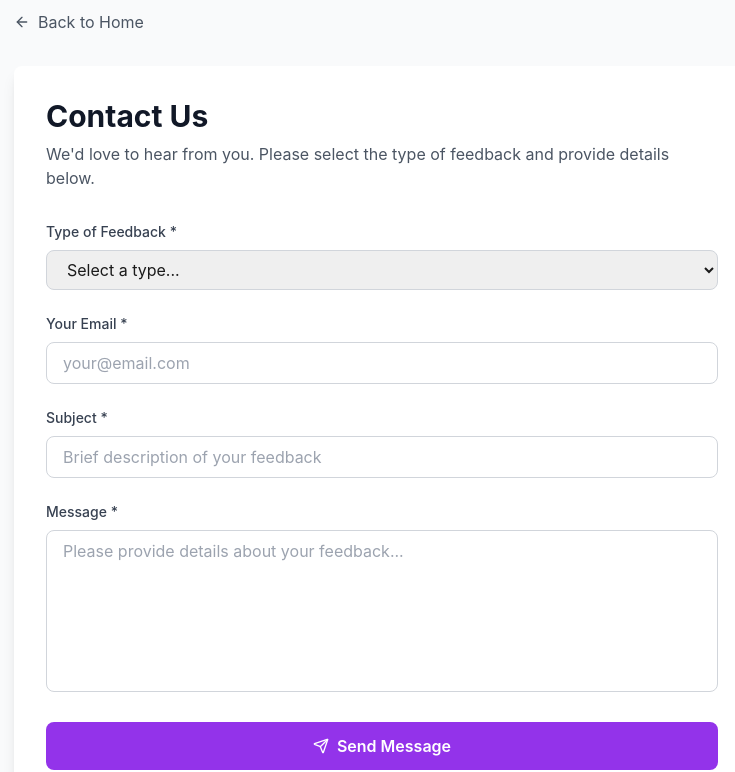
Scenario: Contact › shows Thank You! page after form submission
This screenshot has width=735, height=772.
// Fill in required fields
Select "Web Issue" in the dropdown labelled "Type of Feedback *" at point(382, 270), box top-left (46, 250), bottom-right (718, 290)
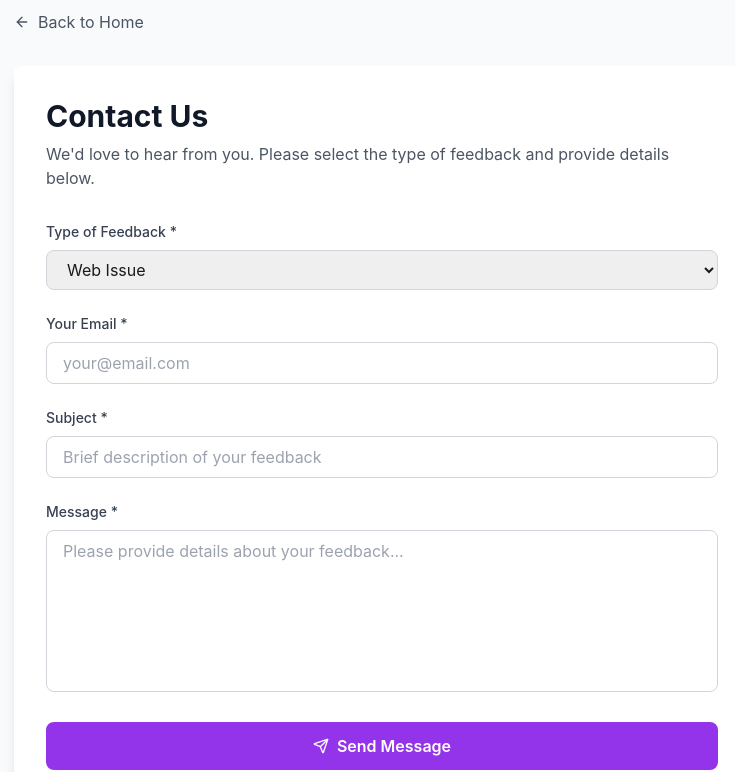
Type "test@example.com" into the field labelled "Your Email *".
click(382, 363); type("test@example.com")  # box top-left (46, 342), bottom-right (718, 384)
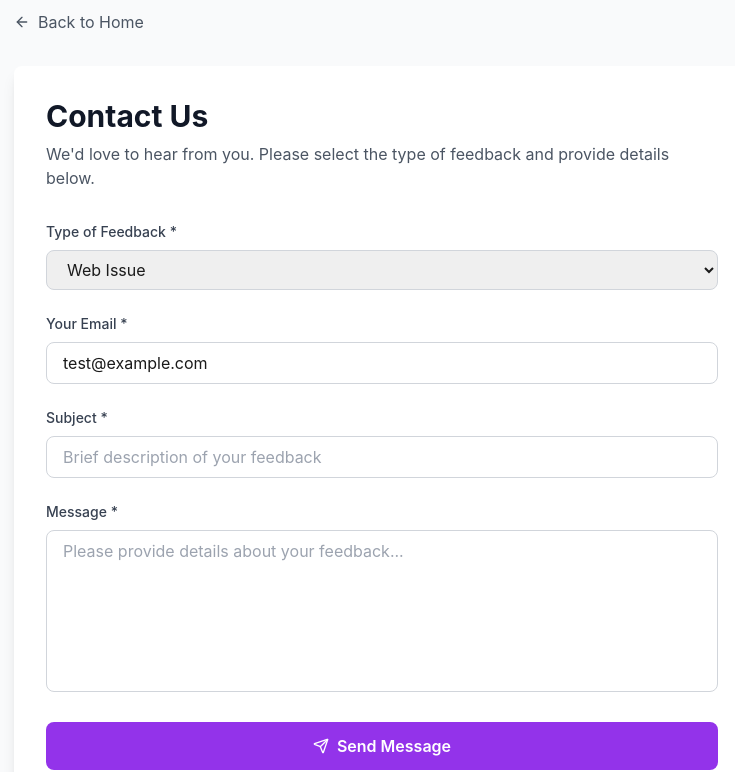
Type "Test" into the field labelled "Subject *".
click(382, 457); type("Test")  # box top-left (46, 436), bottom-right (718, 478)
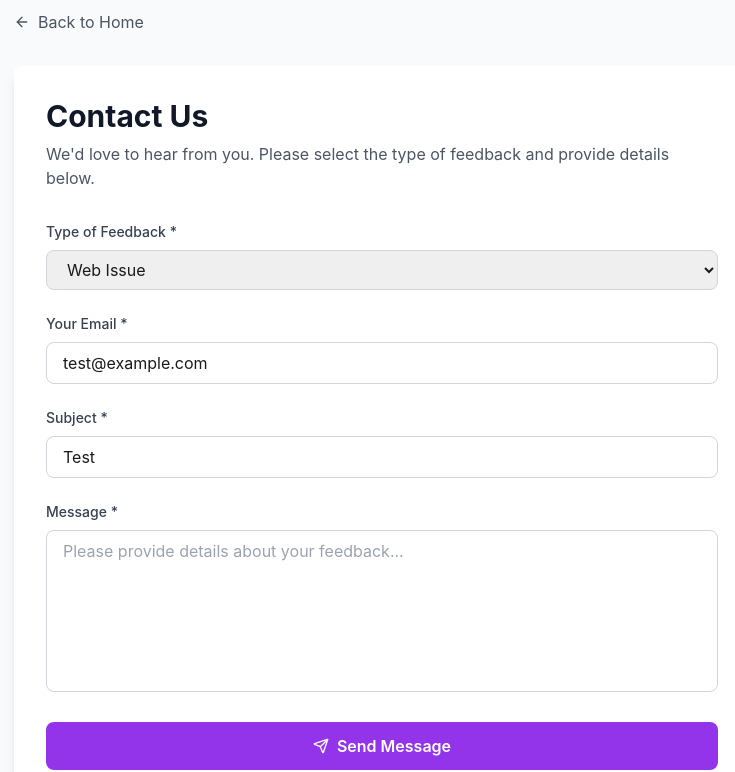
Type "Test message" into the text box labelled "Message *".
click(382, 611); type("Test message")  # box top-left (46, 530), bottom-right (718, 692)
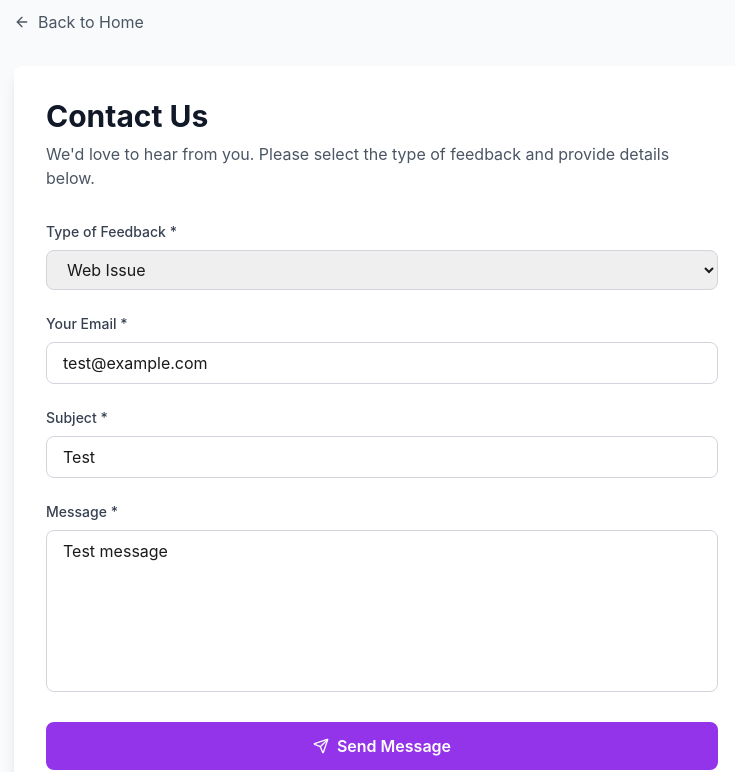
Click the button "Send Message".
click(382, 746)  # box top-left (46, 722), bottom-right (718, 770)
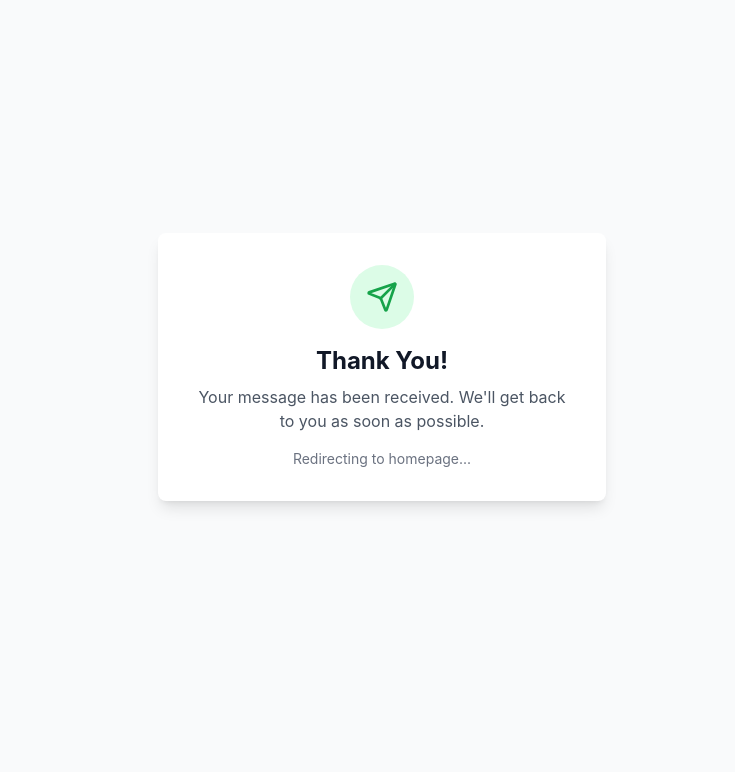
Expected: the heading "Thank You!" is shown, top-left (316, 346), bottom-right (448, 375)
